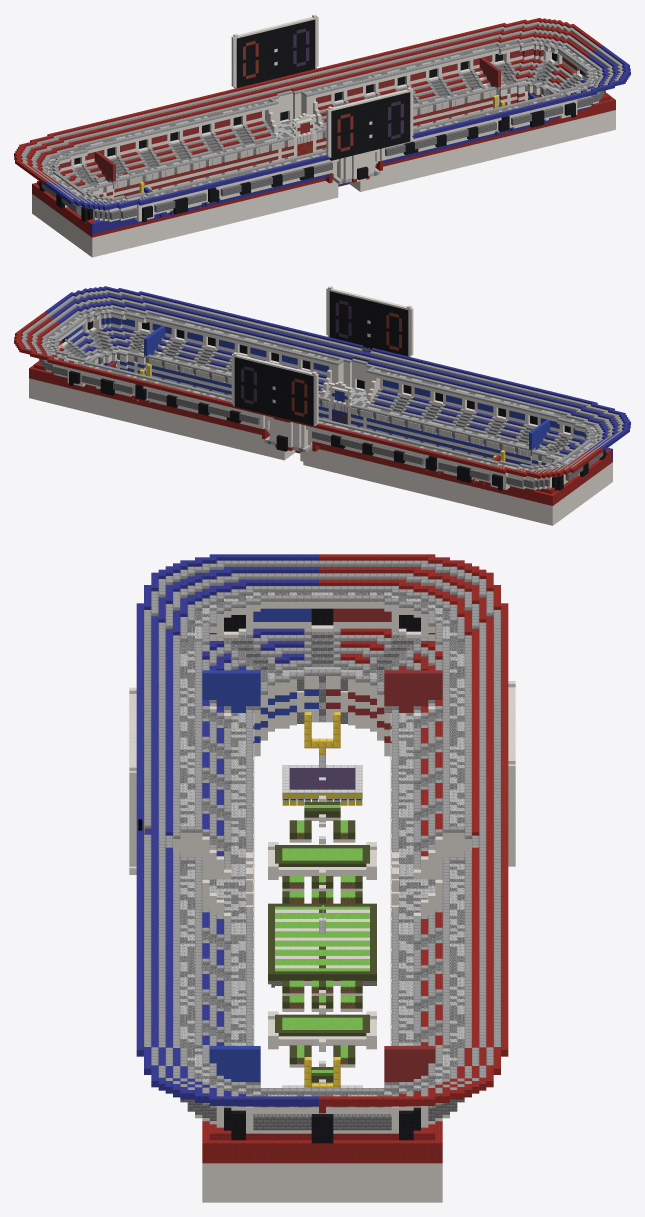
The model's file is minecraft.obj.
3 views of the same model, one above another, from view 1: azimuth 30°, elevation 25°; view 2: azimuth 150°, elevation 25°; view 3: azimuth 270°, elevation 25° (orthographic). The views are drawn at different scales.
Size of the model in its own units: 177 by 35 by 53.
